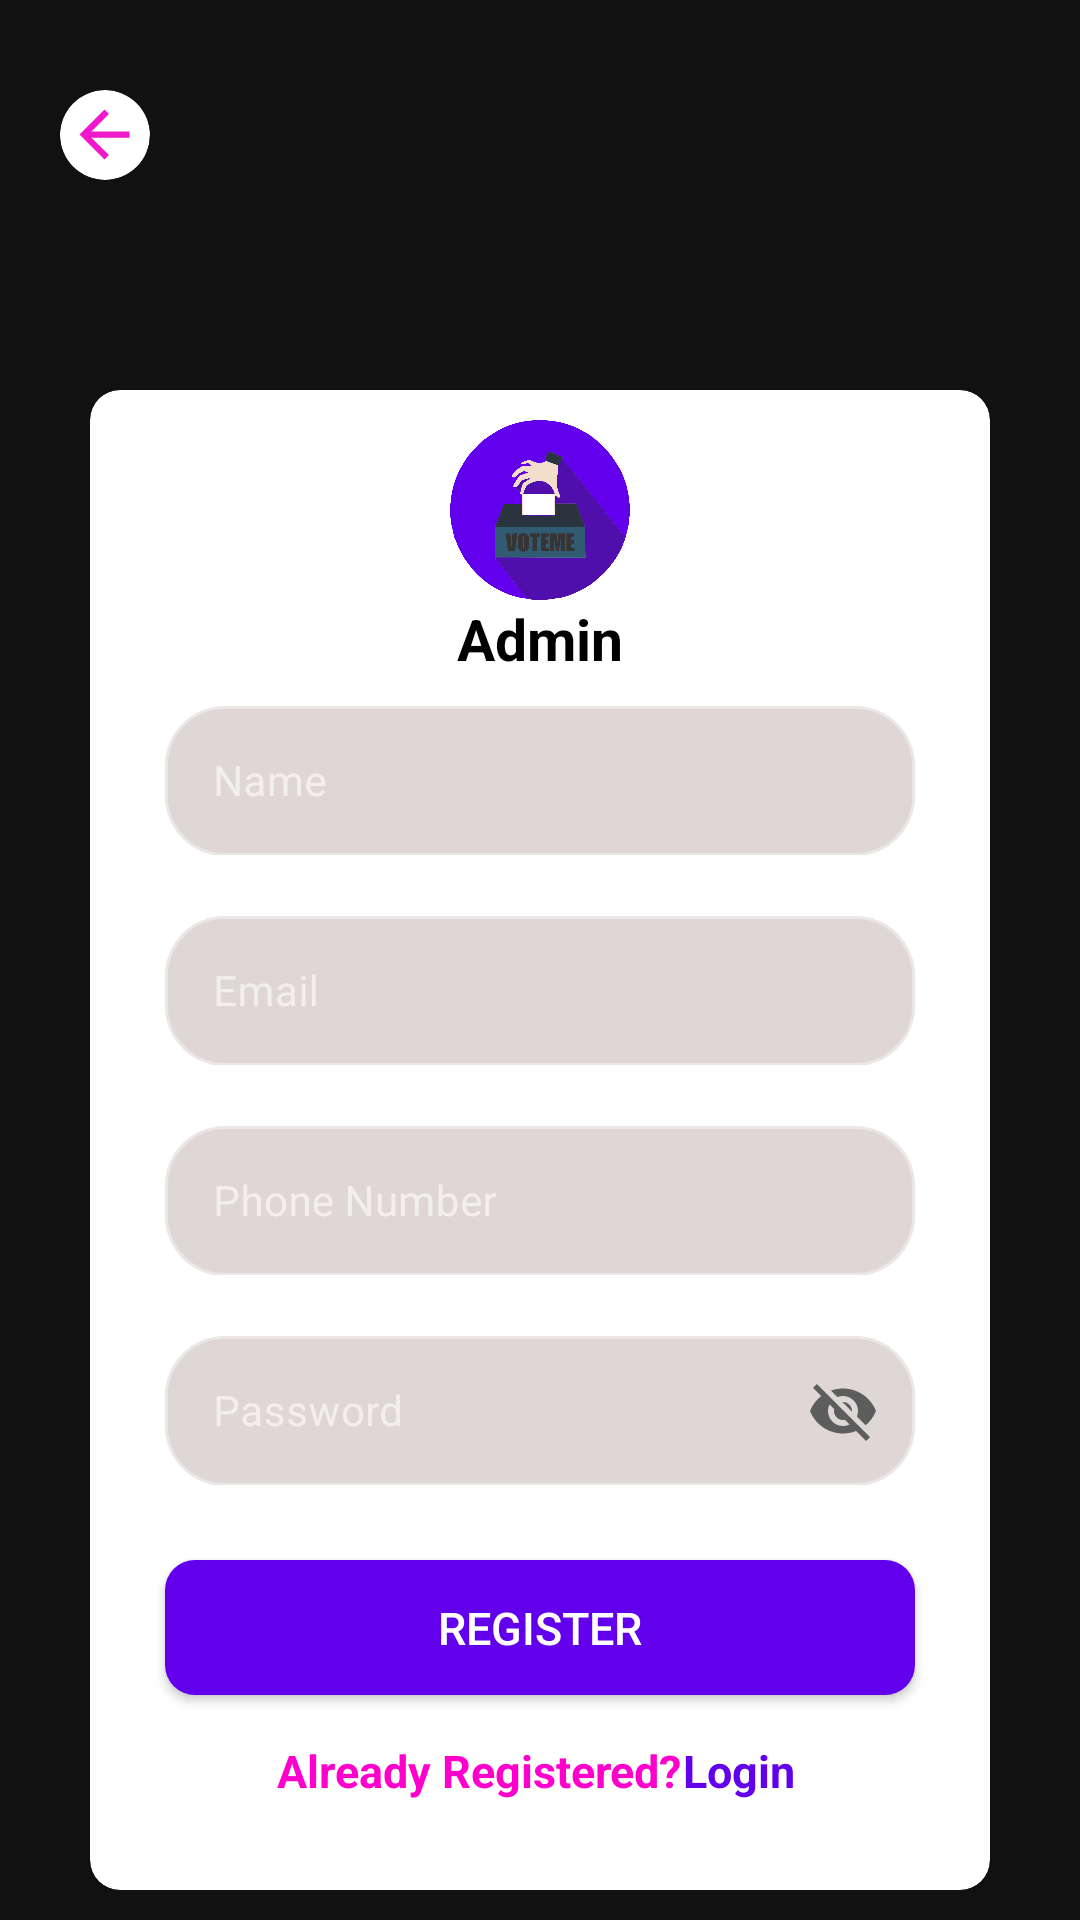

Icon click points for this 1080 × 1920 phone screenshot, format point (x, y):
back arrow: point (104, 134)
